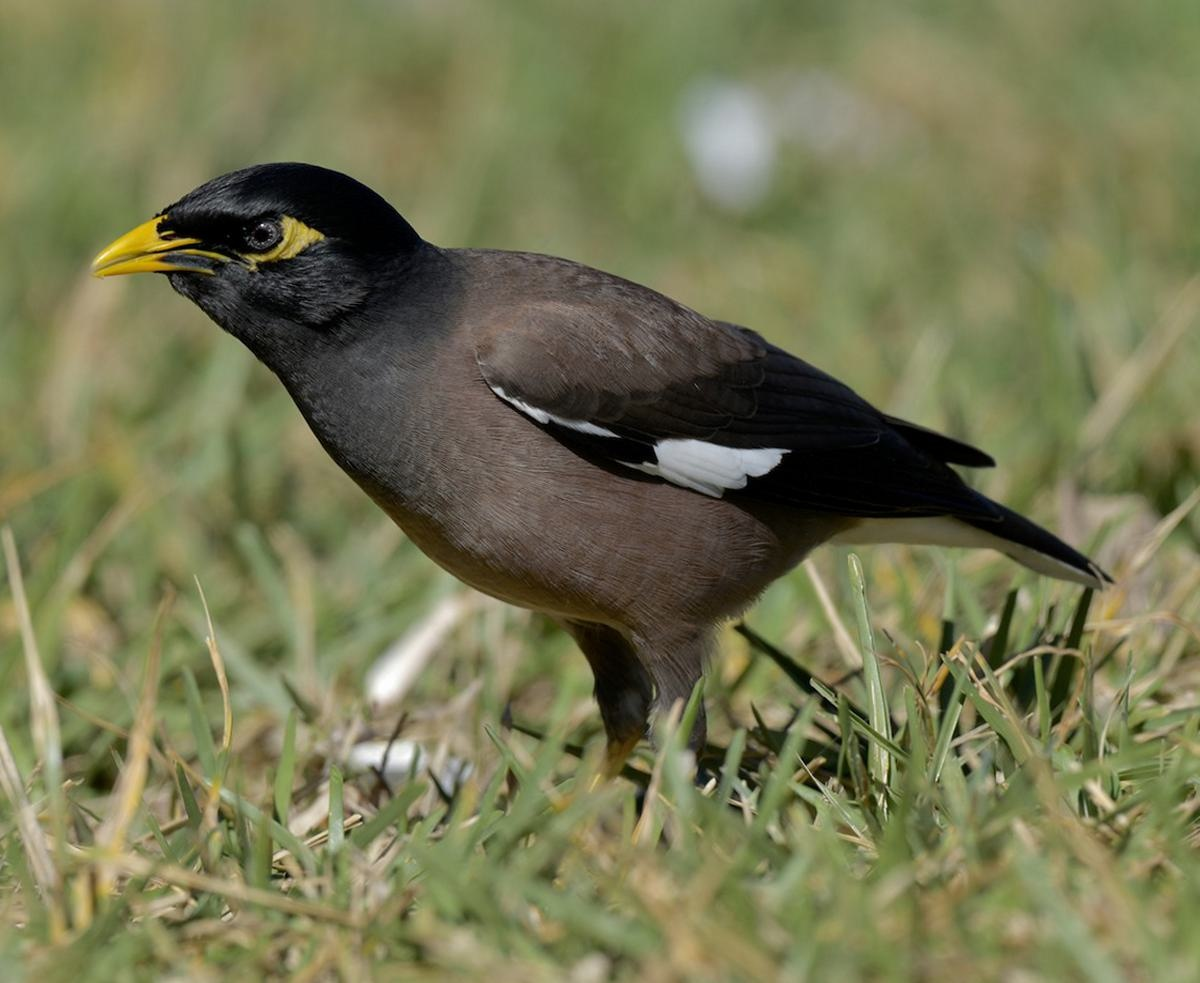myna: (114, 146, 986, 736)
